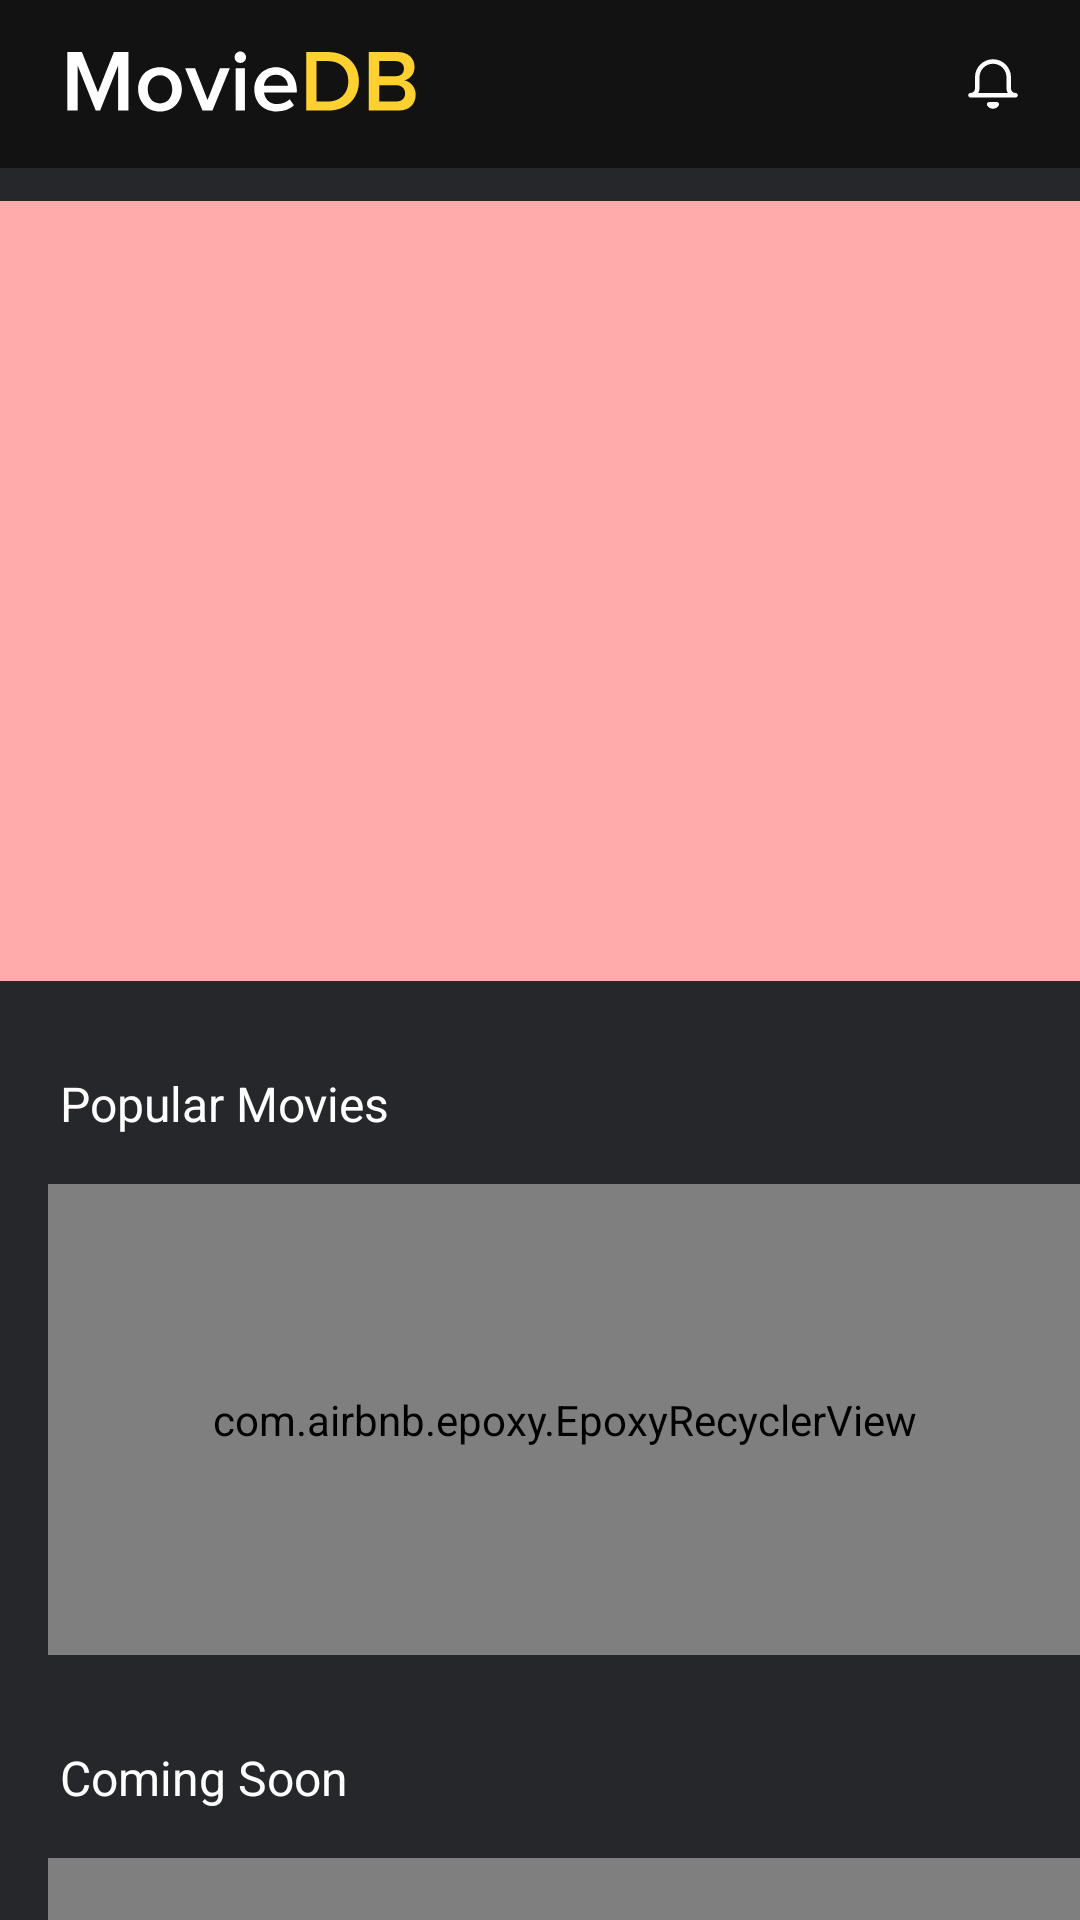

Icon bounding boxes for this 1080x1920 phone screenshot, format (x1, y1, x2, y2):
bell: (968, 59, 1018, 109)
